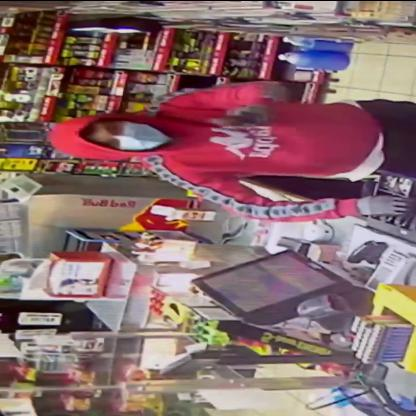Pistol: (204, 105, 267, 138)
